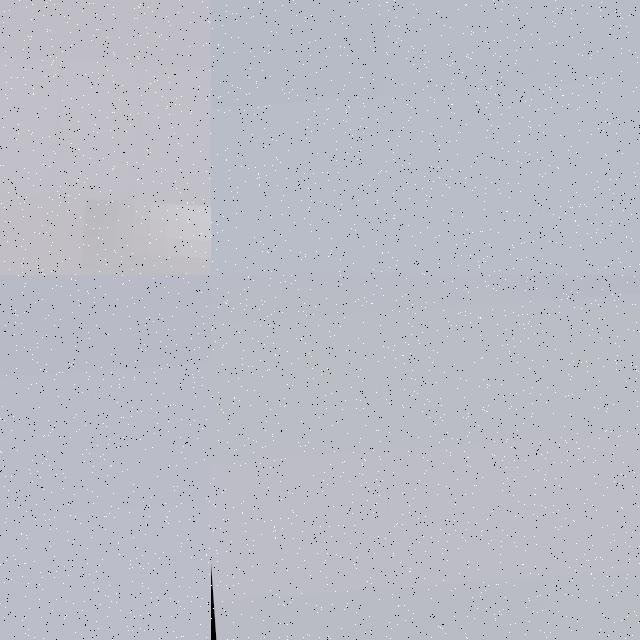drone: (0, 0, 211, 275)
